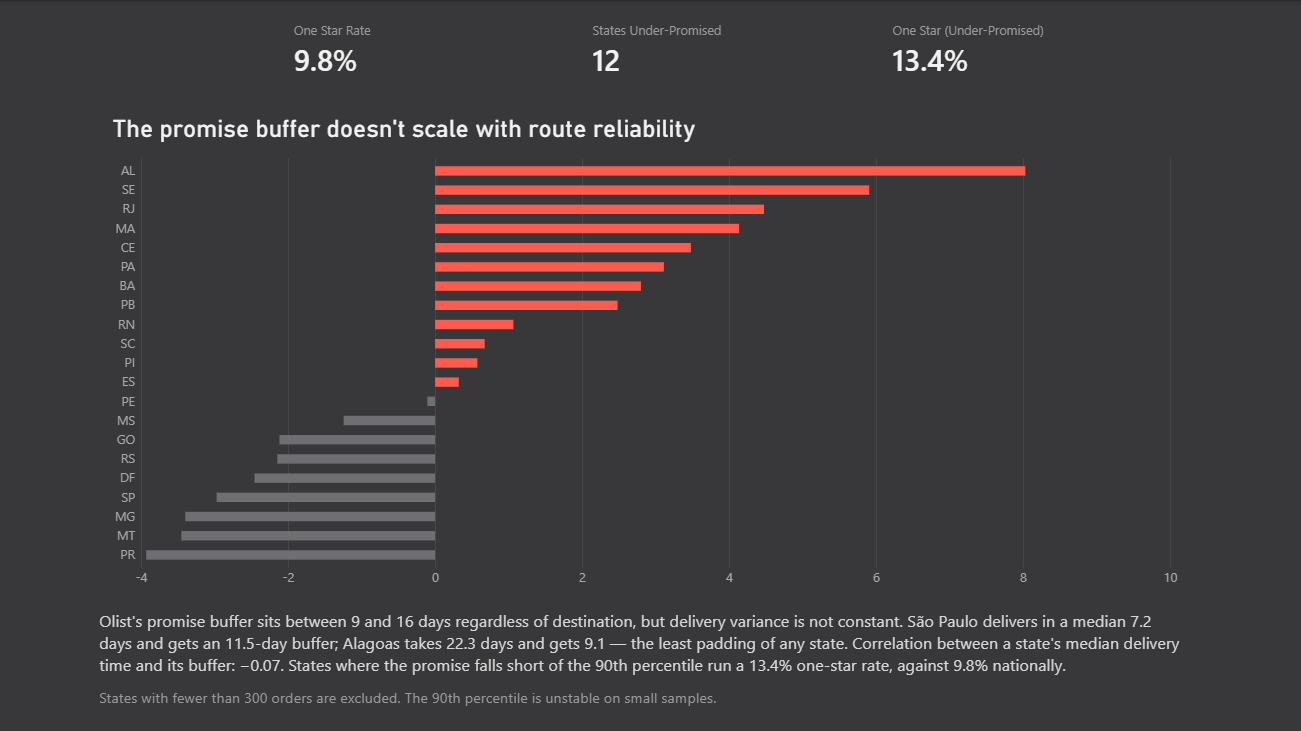

The page's visual inventory and layout, read from the dashboard file:
{"tool":"powerbi","page":{"name":"The Buffer Gap","canvas":[1920,1080],"ordinal":2},"visuals":[{"type":"cardVisual","fields":{"Data":["fact_orders.One Star Rate"]},"box":[419.6,12.9,230,120],"z":0},{"type":"cardVisual","fields":{"Data":["fact_orders.States Under-Promised"]},"box":[859.5,12.9,230,120],"z":1000},{"type":"barChart","title":"The promise buffer doesn''t scale with route reliability","fields":{"Category":["dim_customer.customer_state"],"Y":["fact_orders.Buffer Shortfall"]},"box":[152,152,1600,730],"z":2000},{"type":"textbox","box":[149.1,896.3,1603.1,114.1],"z":3000},{"type":"textbox","box":[149.1,1010.4,1603.1,55.2],"z":4000},{"type":"cardVisual","fields":{"Data":["fact_orders.One Star Rate — Under-Promised States"]},"box":[1301.2,12.9,260,120],"z":5000}]}

Visuals, with their boxes in screenshot pixels (x1, y1, x2, y2), scaled from the page's 1920x1080 canvas onto the 1301x731 screenshot:
cardVisual - fact_orders.One Star Rate: locate(284, 9, 440, 90)
cardVisual - fact_orders.States Under-Promised: locate(582, 9, 738, 90)
"The promise buffer doesn''t scale with route reliability" barChart: locate(103, 103, 1187, 597)
textbox: locate(101, 607, 1187, 684)
textbox: locate(101, 684, 1187, 721)
cardVisual - fact_orders.One Star Rate — Under-Promised States: locate(882, 9, 1058, 90)
